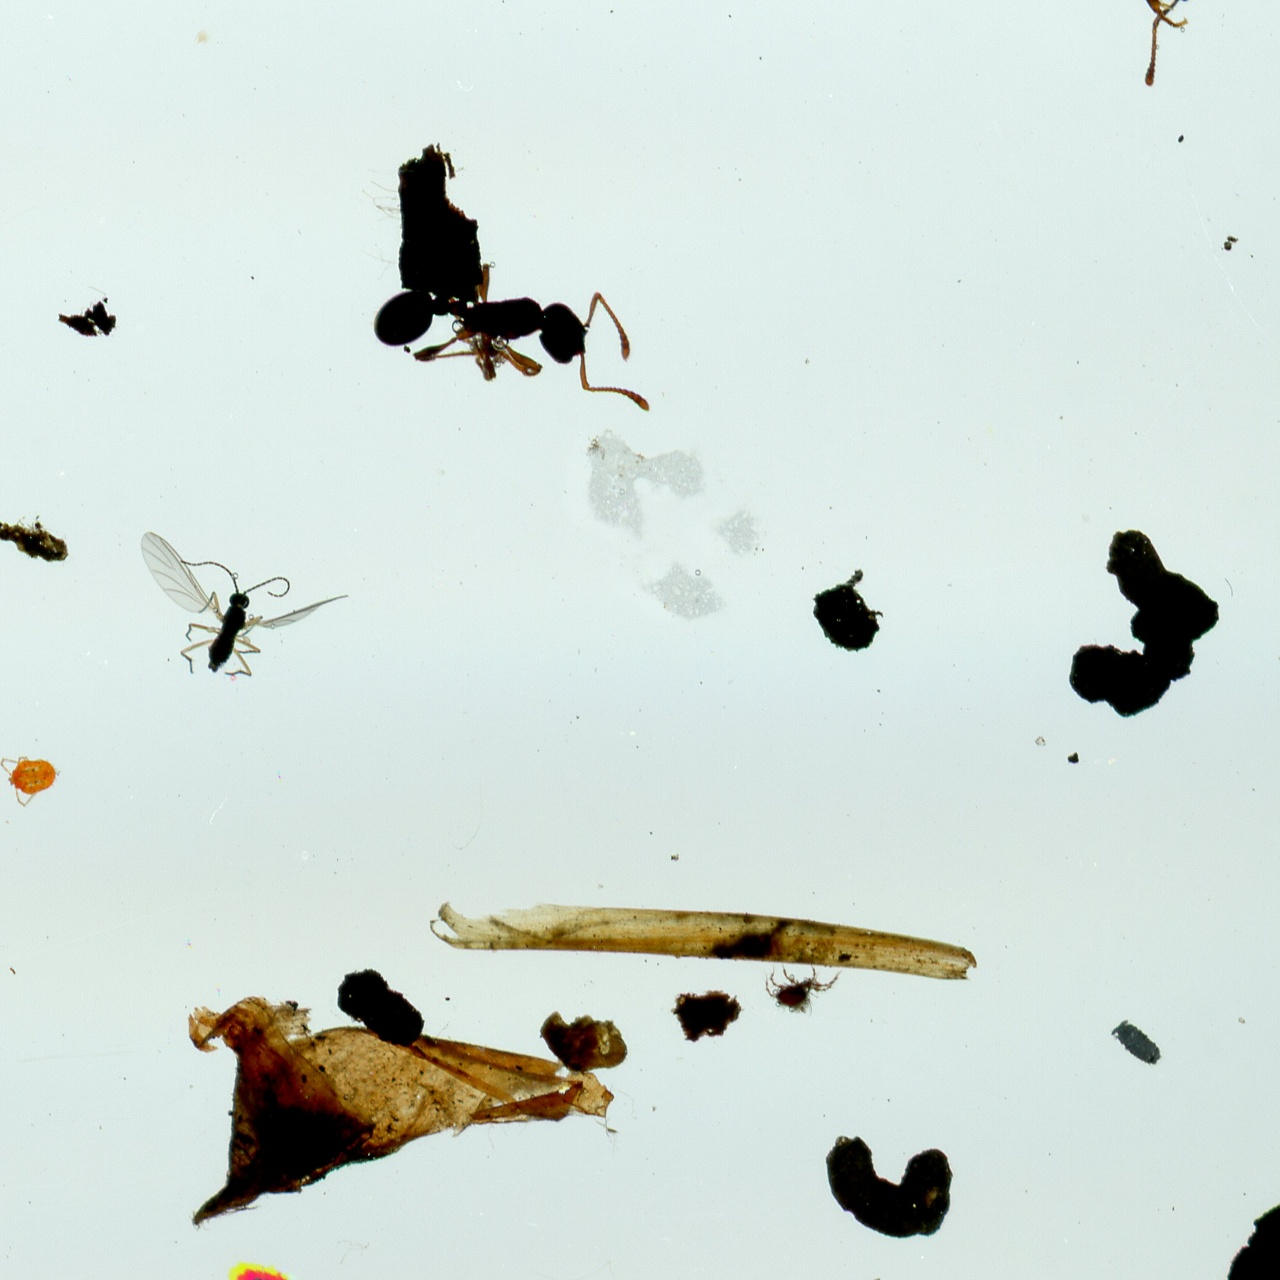arthropod: (366, 256, 662, 418), (137, 526, 354, 685), (973, 0, 1273, 95), (753, 962, 844, 1023), (1101, 1008, 1176, 1082), (0, 753, 66, 810), (218, 1257, 319, 1280), (1267, 556, 1280, 638)
